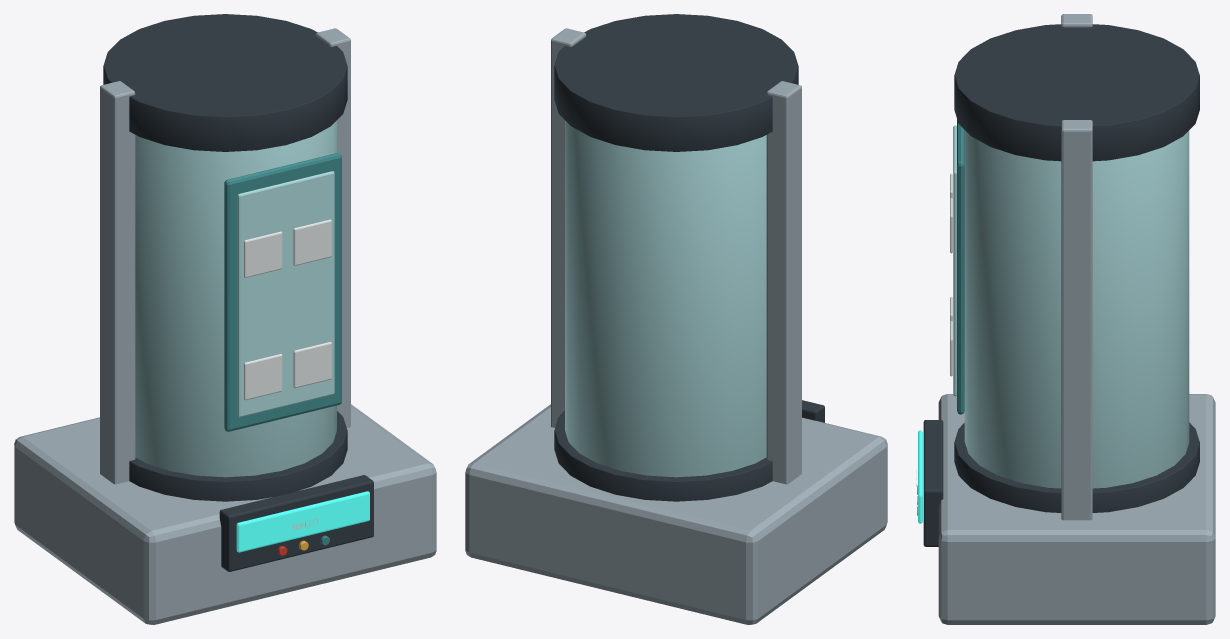
File: specimen-pod.glb
3 views of the same model, side by side, from view 1: azimuth 30°, elevation 25°; view 2: azimuth 150°, elevation 25°; view 3: azimuth 270°, elevation 25° (orthographic).
Parts seen in each view (by area): view 1: Containment base, Chamber shell, Sealing ring.001, Viewing inset, Frame rail, Sample window, Sealing ring, Control bezel, Screen, Frame rail.001, Sample rack.002, Sample rack.003 (+2 smaller); view 2: Chamber shell, Containment base, Sealing ring.001, Frame rail, Sealing ring, Frame rail.001; view 3: Chamber shell, Containment base, Sealing ring.001, Frame rail.001, Sealing ring, Control bezel, Sample window, Viewing inset, Screen, Frame rail.
Boxes of the visible parts, box(x1,y1,x2,y2) form: Containment base: box(14, 404, 436, 624); Chamber shell: box(135, 120, 336, 477); Sealing ring.001: box(103, 14, 347, 151); Viewing inset: box(237, 171, 334, 417); Frame rail: box(100, 81, 135, 484); Sample window: box(224, 153, 341, 431); Sealing ring: box(129, 411, 347, 501); Control bezel: box(219, 475, 373, 571); Screen: box(236, 491, 369, 552); Frame rail.001: box(315, 28, 350, 427); Sample rack.002: box(244, 231, 282, 277); Sample rack.003: box(293, 219, 331, 265); Chamber shell: box(565, 120, 766, 477); Containment base: box(465, 404, 887, 624); Sealing ring.001: box(554, 14, 798, 151); Frame rail: box(766, 81, 801, 484); Sealing ring: box(554, 411, 772, 501); Frame rail.001: box(551, 28, 586, 427); Chamber shell: box(964, 130, 1189, 488); Containment base: box(938, 394, 1215, 624); Sealing ring.001: box(954, 24, 1199, 161); Frame rail.001: box(1061, 120, 1092, 520); Sealing ring: box(954, 422, 1199, 512); Control bezel: box(923, 420, 943, 546); Sample window: box(957, 119, 964, 414); Viewing inset: box(953, 125, 956, 396); Screen: box(918, 430, 922, 523); Frame rail: box(1061, 14, 1092, 27).
Size of the model in its own units: 1.3 by 2.05 by 1.15.
